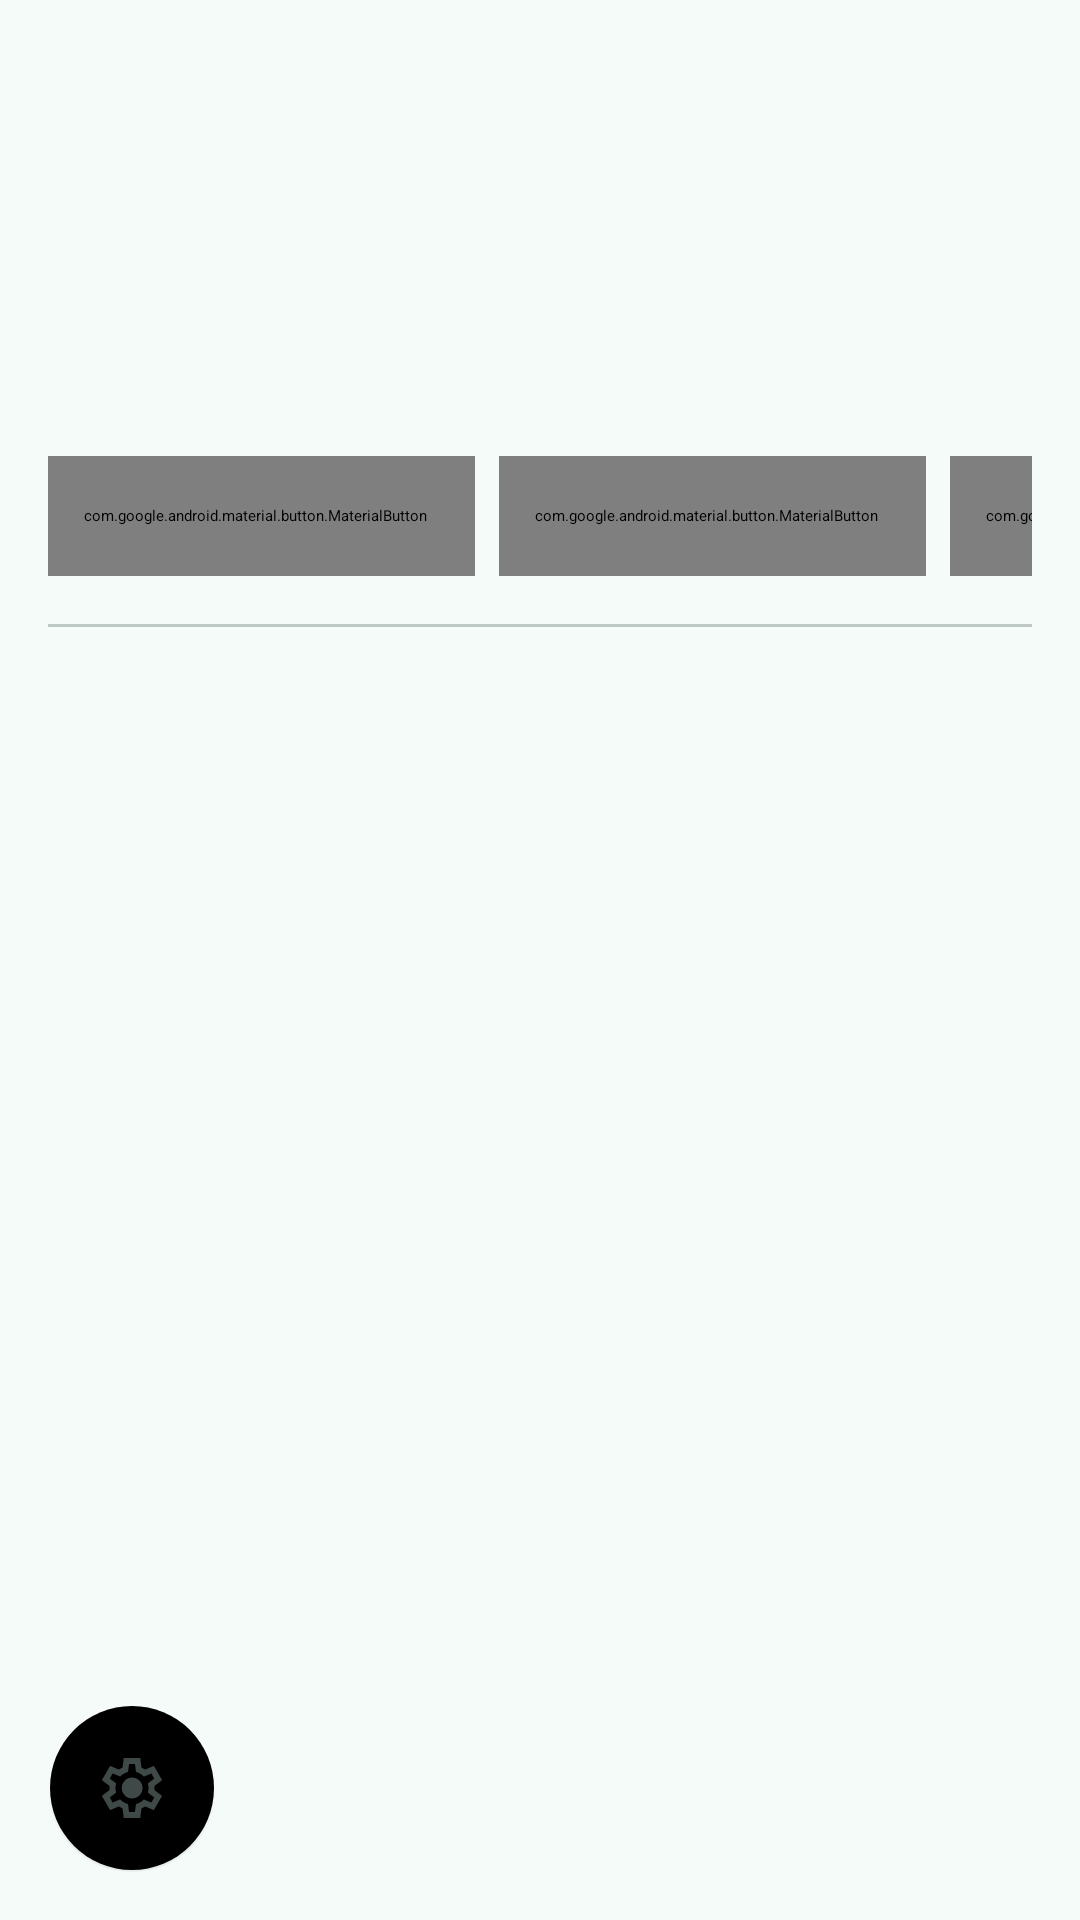

Screen size 1080px x 1920px. Icon name, then its center in pixels as [x,y]:
Settings: [132,1788]
